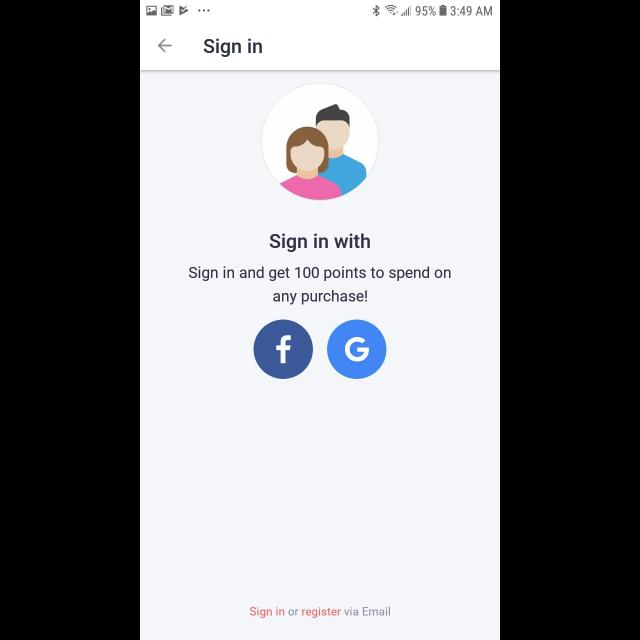icon: (254, 320, 314, 380), (327, 320, 387, 380), (158, 38, 172, 51)
image: (261, 83, 379, 201)
text: (189, 266, 451, 306), (270, 234, 370, 252), (250, 606, 390, 618), (202, 38, 262, 56)
uppertaskbar: (140, 1, 500, 18)
